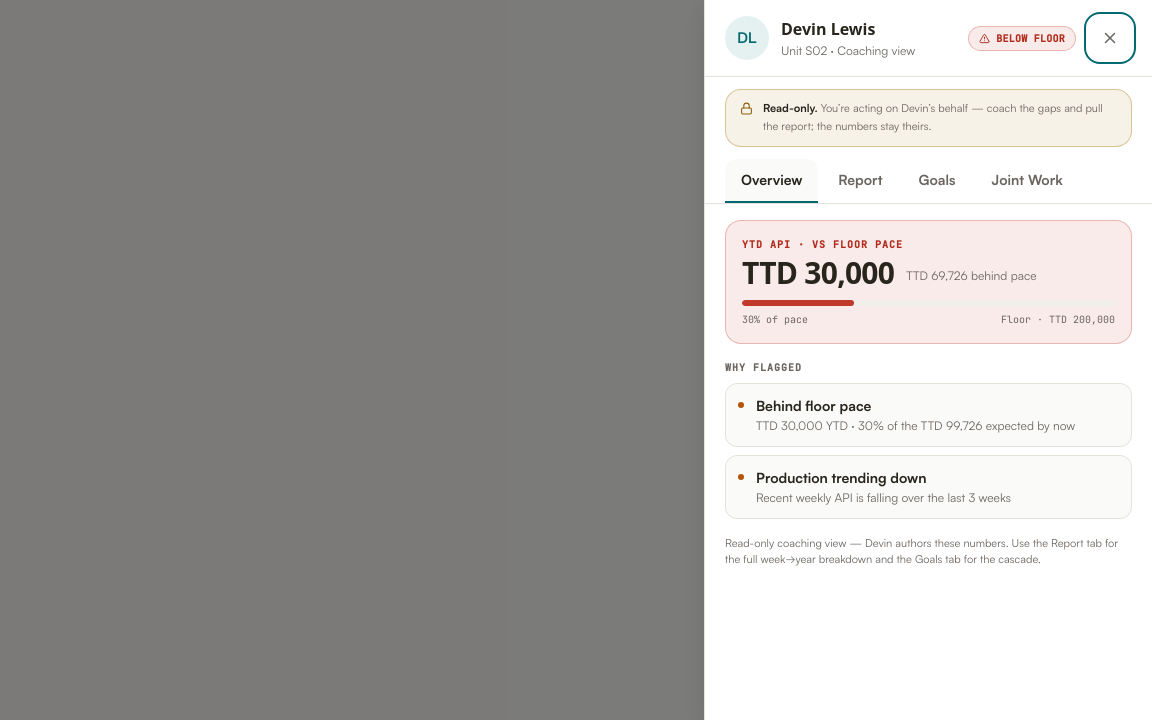
Test case: AgentDrillDrawer › Goals tab degrades to a neutral state when the cascade read is denied
The width and height of the screenshot is (1152, 720).
Click the tab with test id "drill-tab-goals".
click(937, 181)  # box [903, 159, 972, 203]
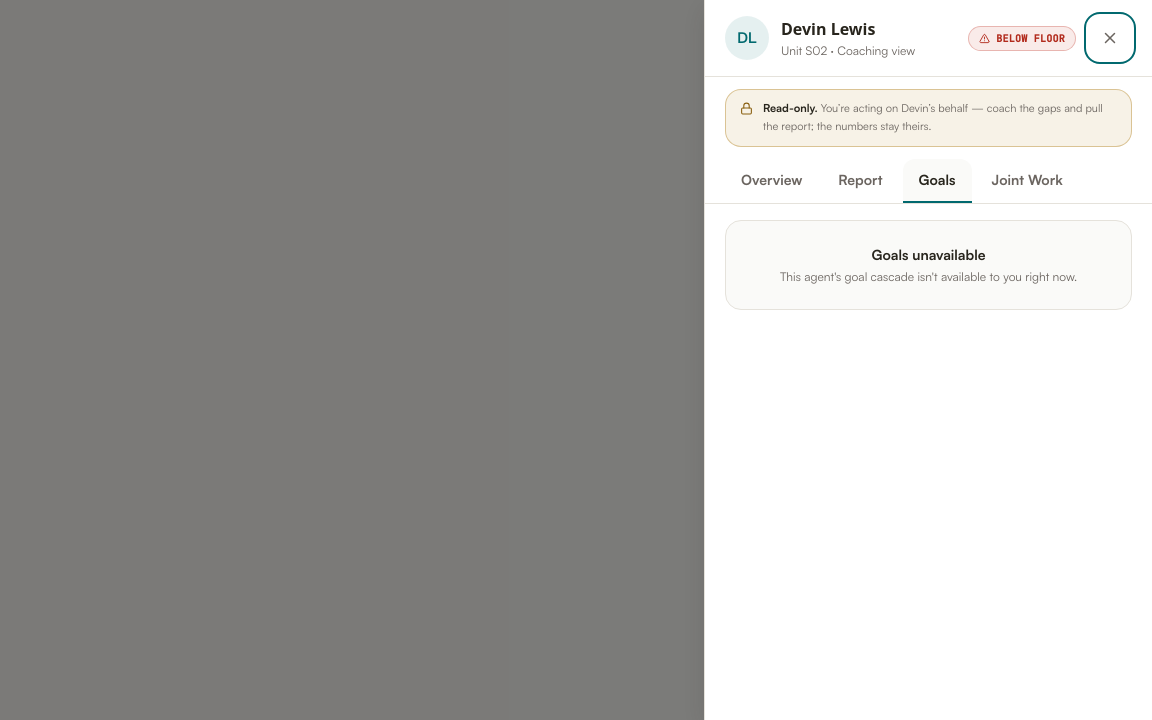
Result: the element with test id "drill-goals-unavailable" is shown at [725, 220, 1132, 310]
